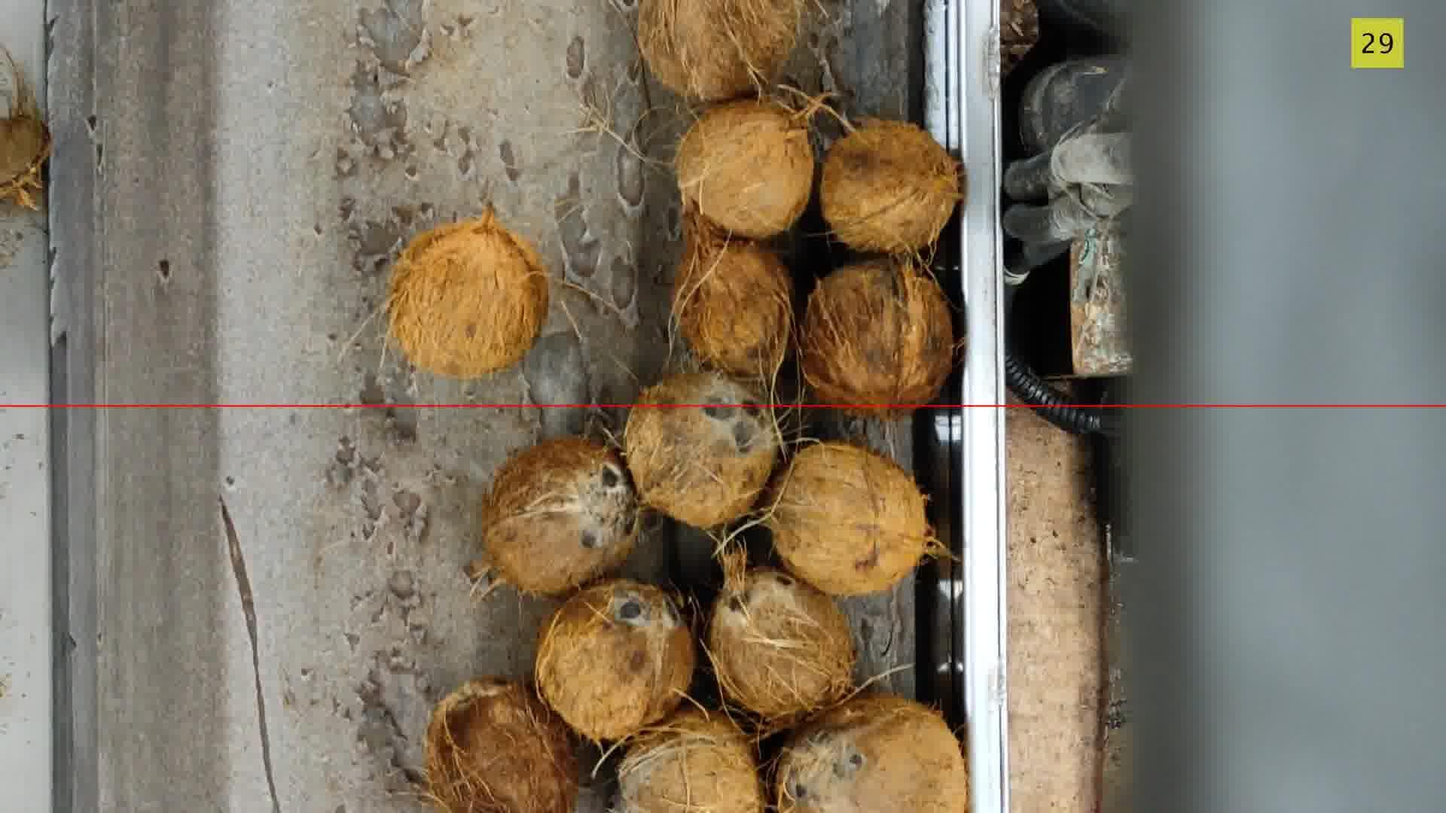Coconut: (765, 442, 938, 595), (536, 579, 695, 741), (481, 437, 639, 595), (799, 257, 956, 416), (398, 214, 548, 376), (624, 373, 780, 528), (706, 568, 855, 724), (774, 696, 969, 812), (426, 678, 578, 812), (673, 213, 793, 381), (676, 99, 814, 239), (820, 120, 962, 252), (639, 0, 801, 101), (618, 705, 764, 812), (0, 48, 50, 209)
